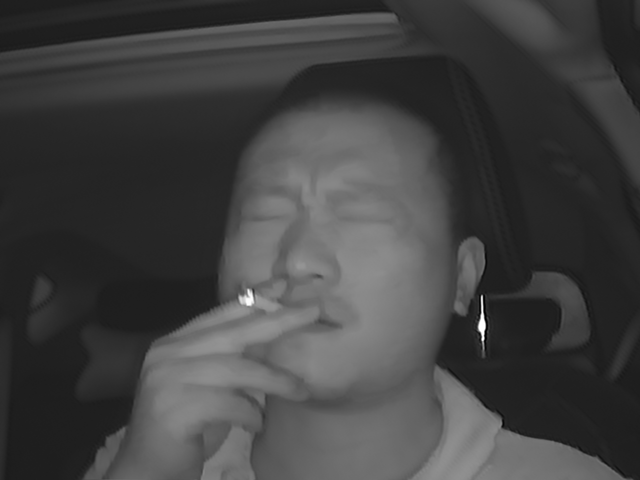hand: (150, 276, 311, 444)
